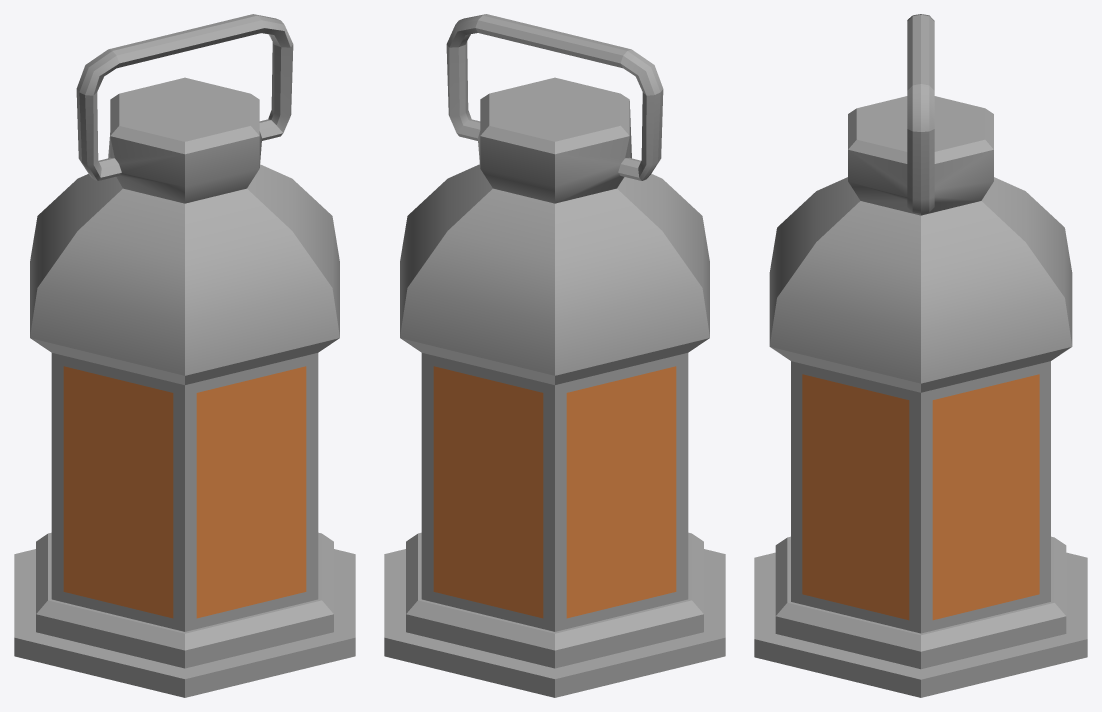
Rendered from S3De_Lantern.fbx.
The picture shows the model from 3 angles, left to right: view 1: azimuth 30°, elevation 25°; view 2: azimuth 150°, elevation 25°; view 3: azimuth 270°, elevation 25°; orthographic projection. The views are drawn at different scales.
Parts seen in each view (by area): view 1: Lantern; view 2: Lantern; view 3: Lantern.
Part boxes in pixels (x1,y1,x2,y2): Lantern: [14, 14, 355, 697]; Lantern: [384, 14, 725, 697]; Lantern: [754, 14, 1087, 697].
Bounding box in the file's own units: 0.00309 × 0.00503 × 0.00268.
